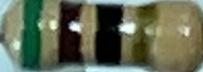Black: (55, 3, 86, 68), (92, 5, 124, 65)
Green: (17, 0, 45, 68)
Side-Gold: (130, 2, 160, 72)
